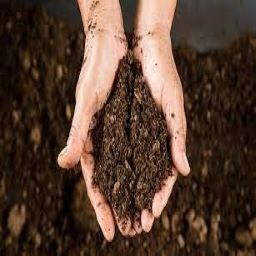dirt: (1, 16, 76, 250), (180, 49, 254, 250), (88, 52, 173, 222)
